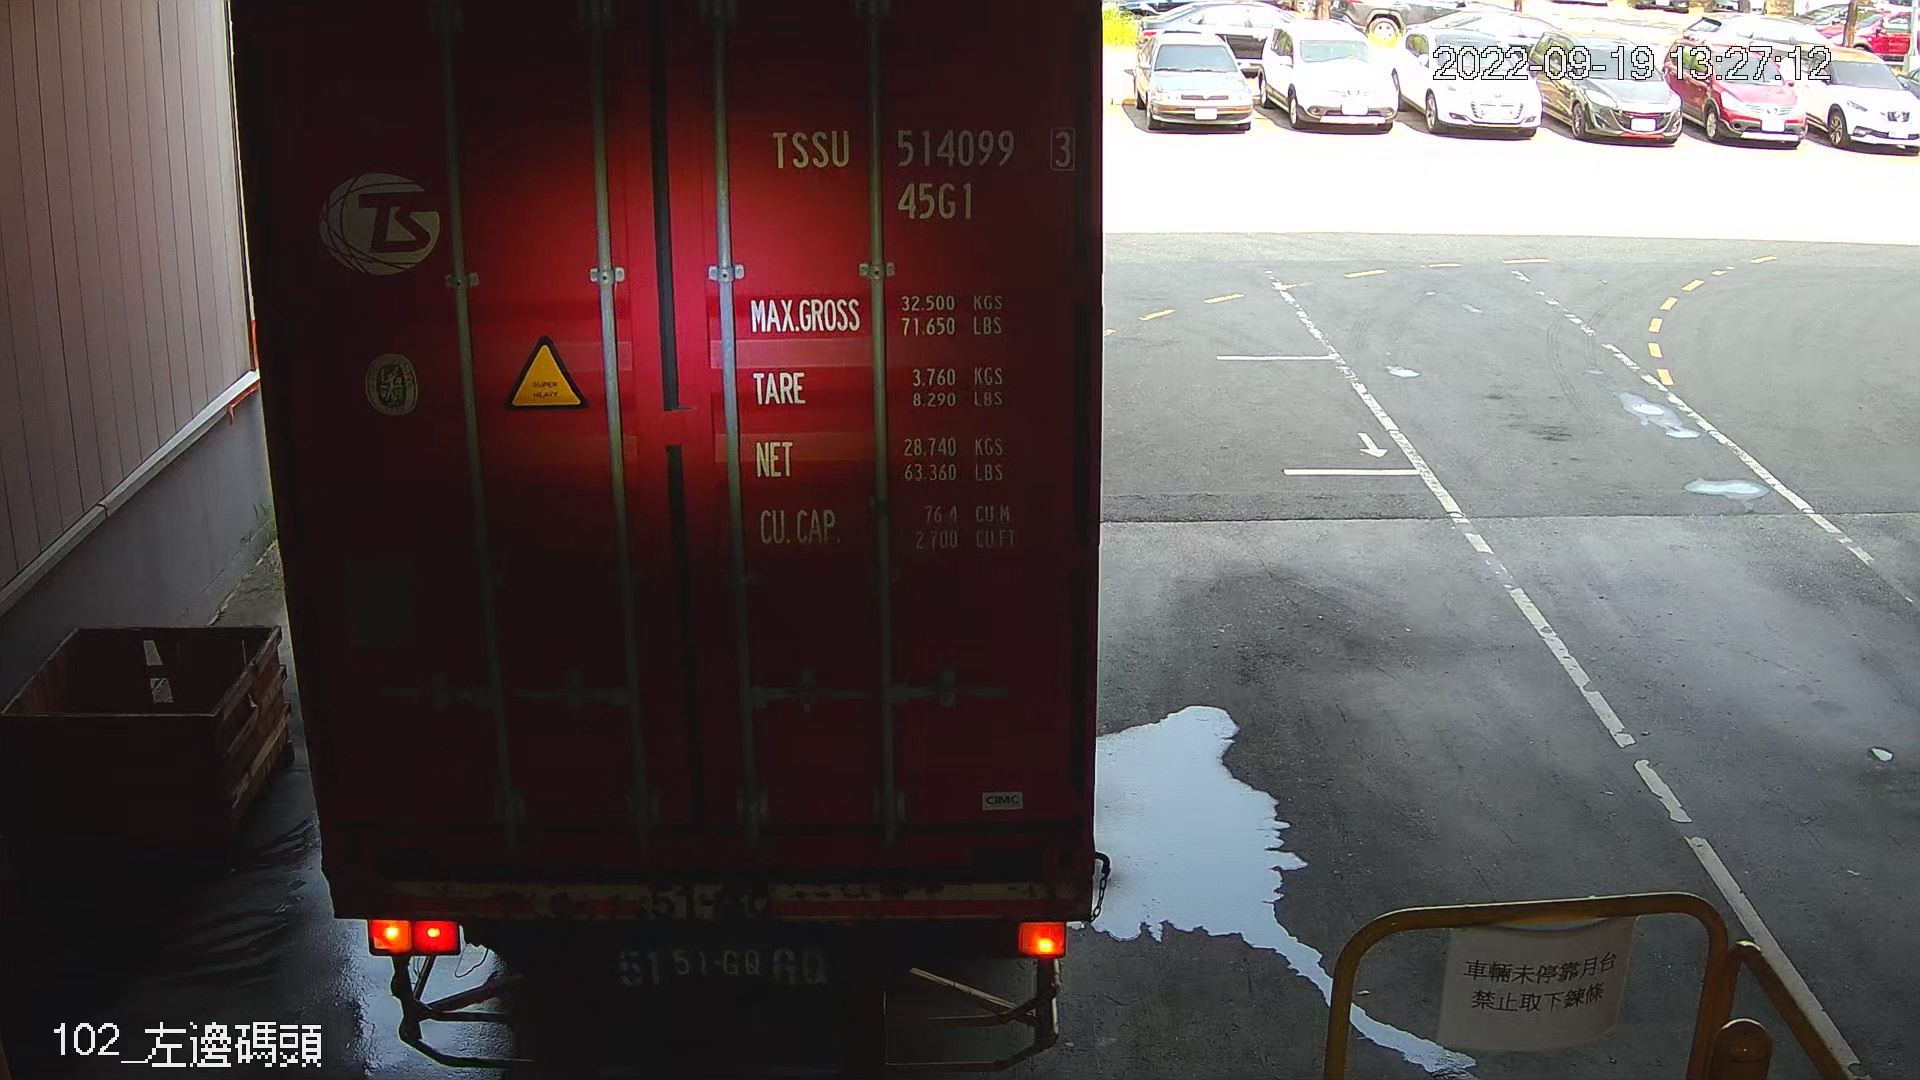container: (752, 113, 1084, 229)
